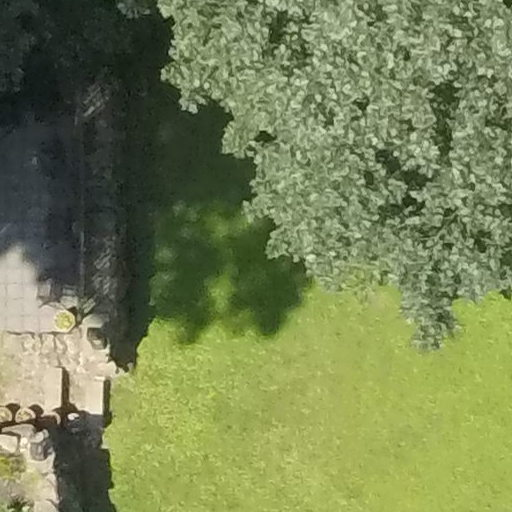container: (50, 306, 77, 340), (14, 406, 38, 424), (1, 398, 15, 424)
flower pot: (48, 310, 81, 338), (11, 404, 36, 430)
